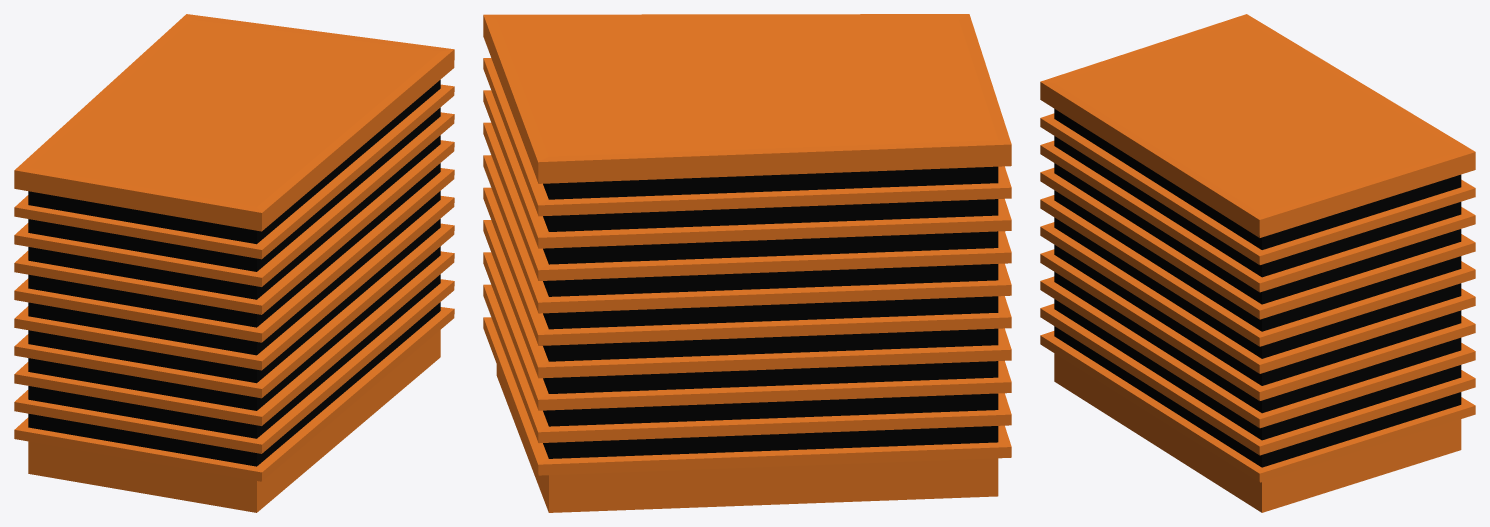
File: Skyscraper_10.fbx
3 views of the same model, side by side, from view 1: azimuth 30°, elevation 25°; view 2: azimuth 150°, elevation 25°; view 3: azimuth 270°, elevation 25° (orthographic). The views are drawn at different scales.
Visible parts, largest first — view 1: Building_25; view 2: Building_25; view 3: Building_25.
Part boxes in pixels (bbox=[...]): Building_25: bbox=[14, 14, 454, 512]; Building_25: bbox=[483, 14, 1011, 512]; Building_25: bbox=[1040, 14, 1475, 512].
Size of the model in its own units: 7489 by 5015 by 6471.
